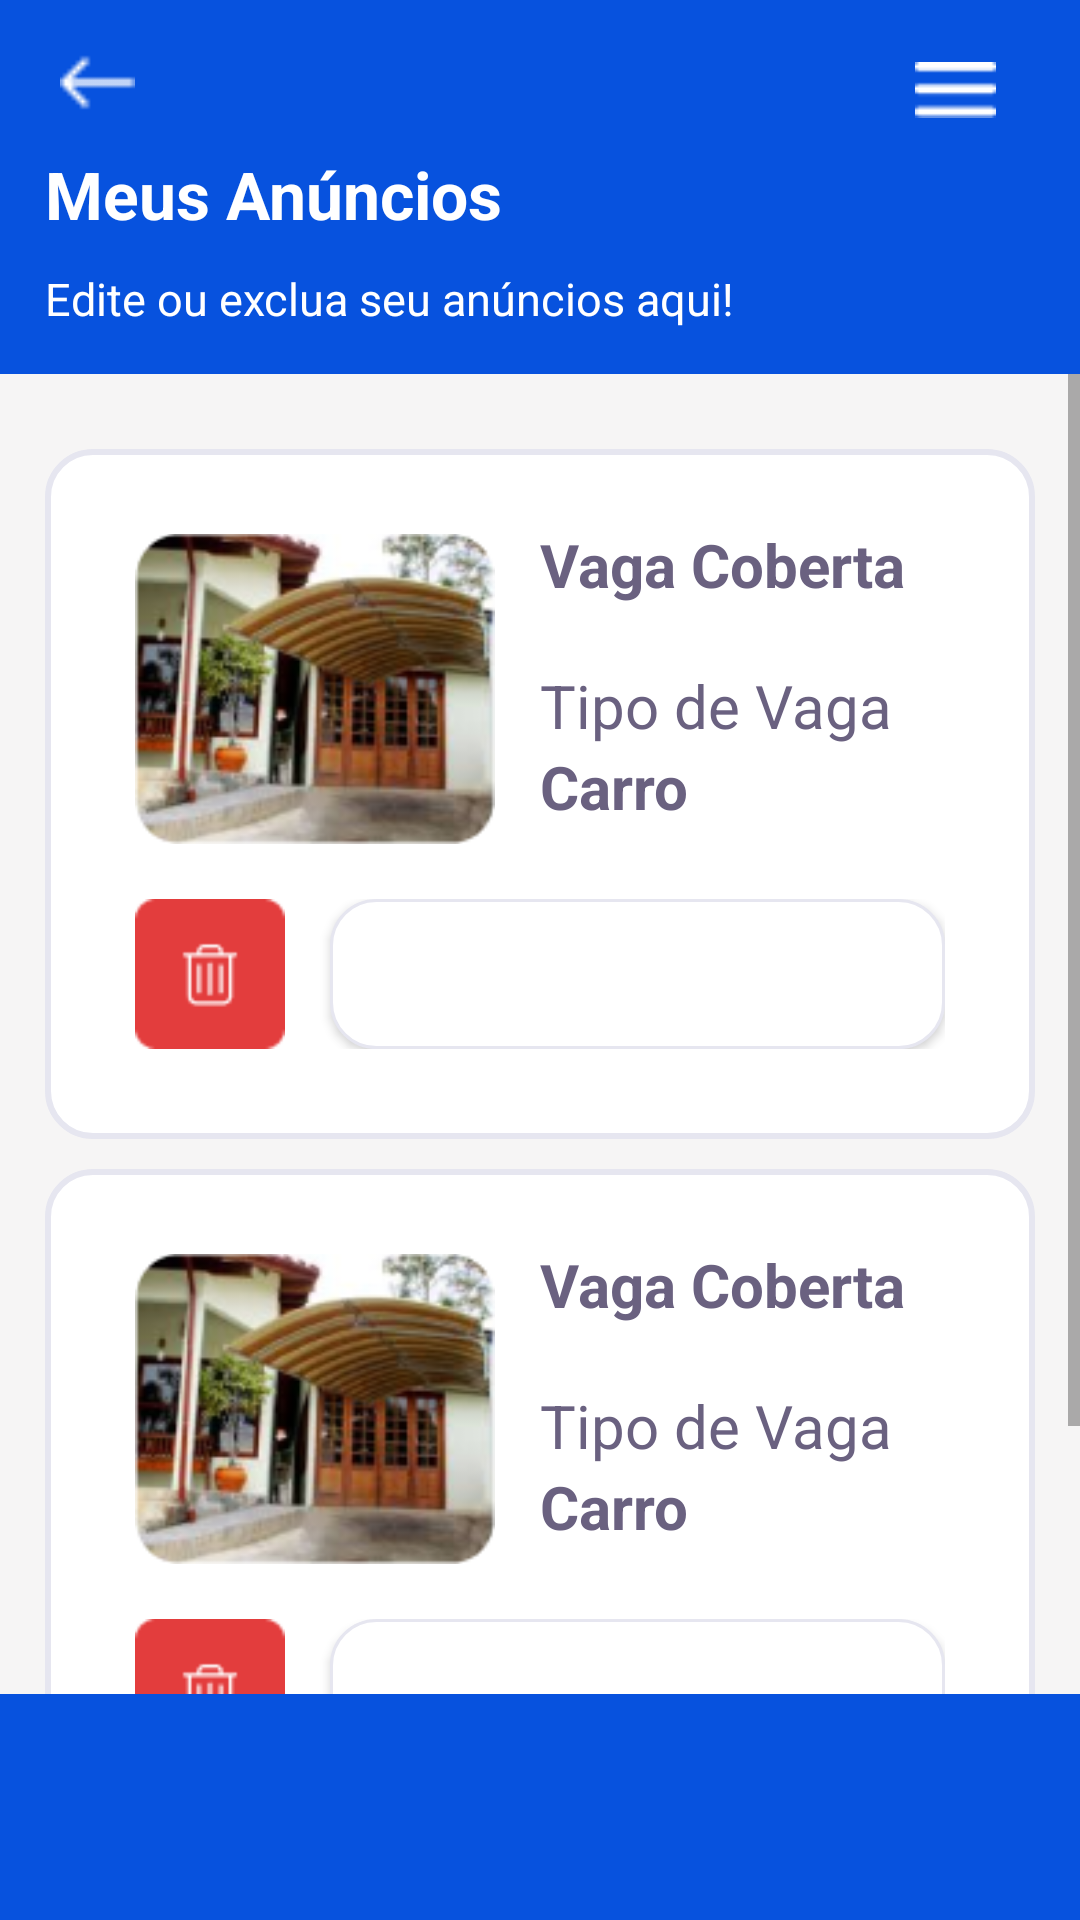

Screen size 1080 x 1920. Icon name, then its box in pixels as (x1, y1, x2, y2):
exemplo anuncio: (135, 534, 495, 844), (135, 1254, 495, 1564)
menu: (915, 62, 996, 118)
seta voltar: (60, 56, 135, 109)
